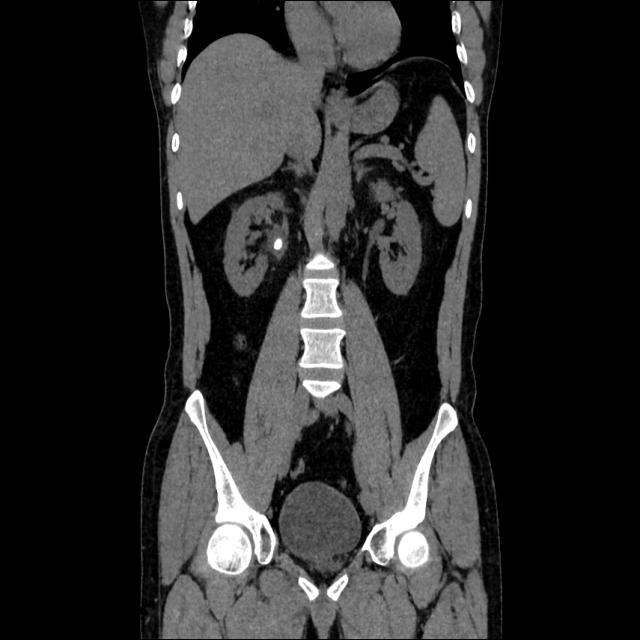kidneystone: (272, 237, 285, 252)
